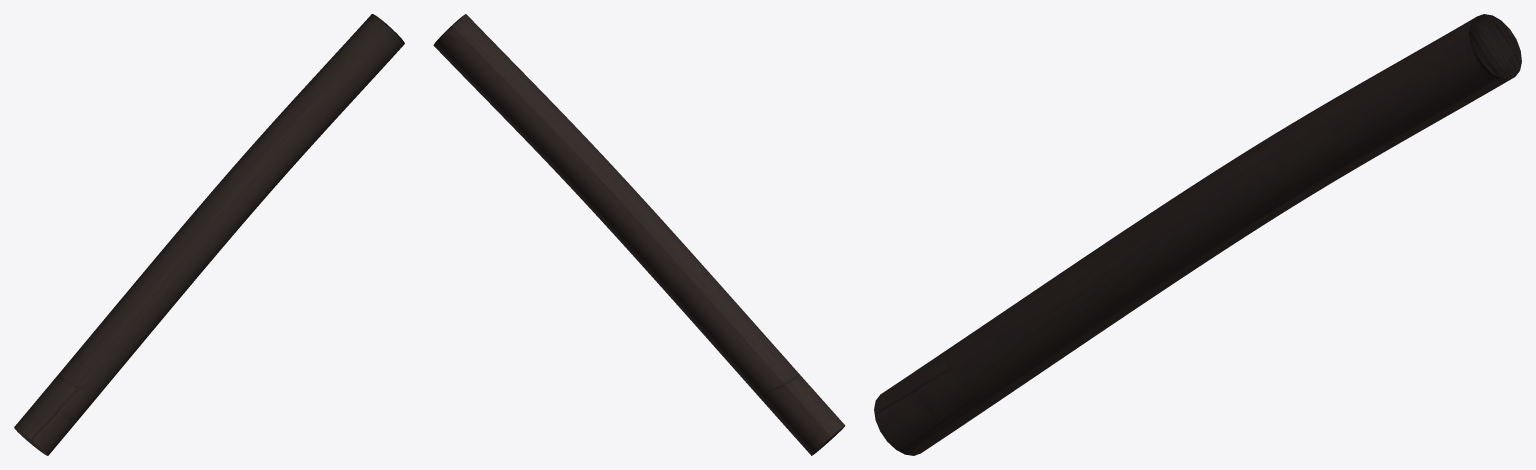
File: base__right_leg.glb
3 renders of one model, left to right at view 1: azimuth 30°, elevation 25°; view 2: azimuth 150°, elevation 25°; view 3: azimuth 330°, elevation 25°, orthographic. The views are drawn at different scales.
Visible parts, largest first — view 1: world; view 2: world; view 3: world.
Part boxes in pixels (x1,y1,x2,y2): world: (14, 14, 404, 455); world: (433, 14, 845, 455); world: (874, 14, 1521, 455).
Bounding box in the file's own units: 0.2616 × 0.225 × 0.0336.
Materials: 1 (1 with a texture image).
